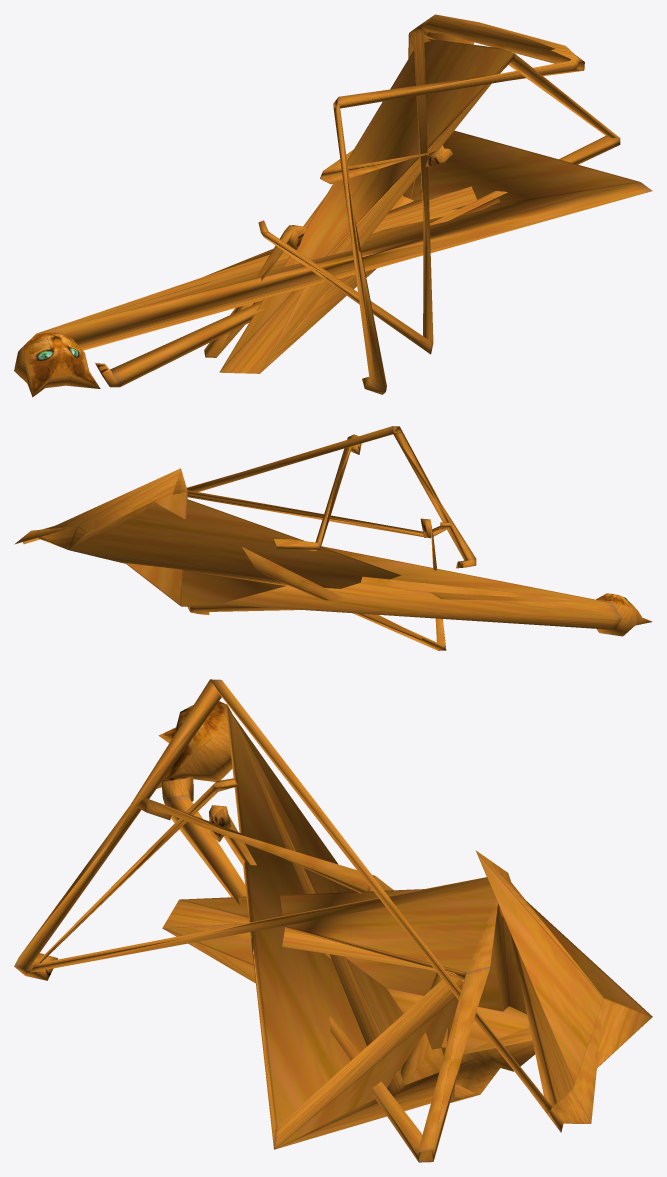
3 renders of one model, top to bottom at view 1: azimuth 30°, elevation 25°; view 2: azimuth 150°, elevation 25°; view 3: azimuth 270°, elevation 25°, orthographic. The views are drawn at different scales.
Visible parts, largest first — view 1: T1L3M003_19; view 2: T1L3M003_19; view 3: T1L3M003_19.
Boxes of the visible parts, bbox=[...] form: T1L3M003_19: bbox=[14, 14, 652, 397]; T1L3M003_19: bbox=[14, 426, 652, 650]; T1L3M003_19: bbox=[14, 679, 652, 1162].
Size of the model in its own units: 1.64 by 0.5785 by 0.9654.
1 material, 1 textured.
